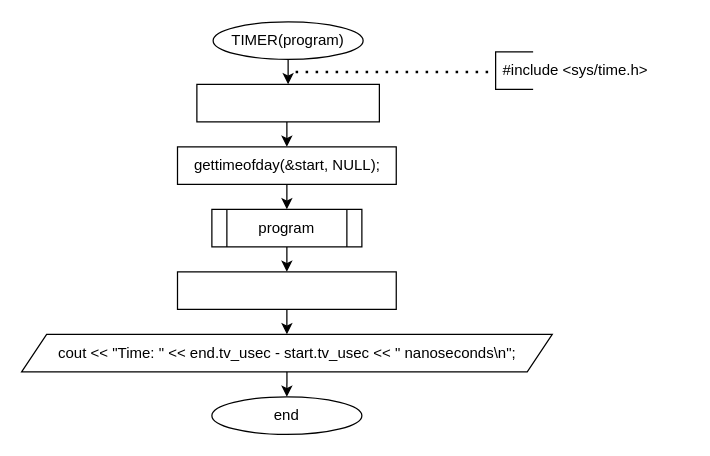
Image size: 710x456. Some labels were removed from this diagram. The centre of each missing label's shape, as x and y in pixels:
gettimeofday(&end, NULL);: the point at 286,290
timeval start, end;: the point at 287,102
